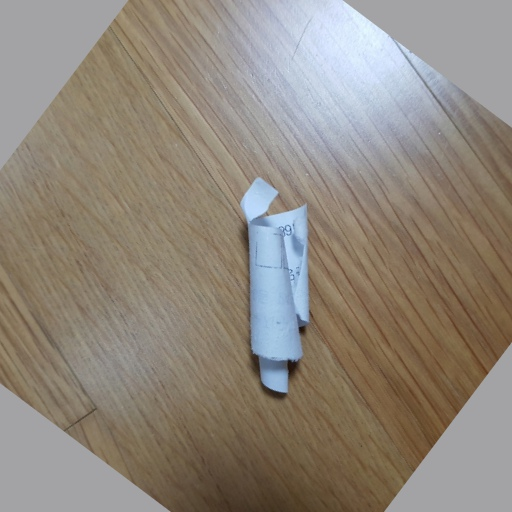Paper_3: (215, 163, 338, 410)
